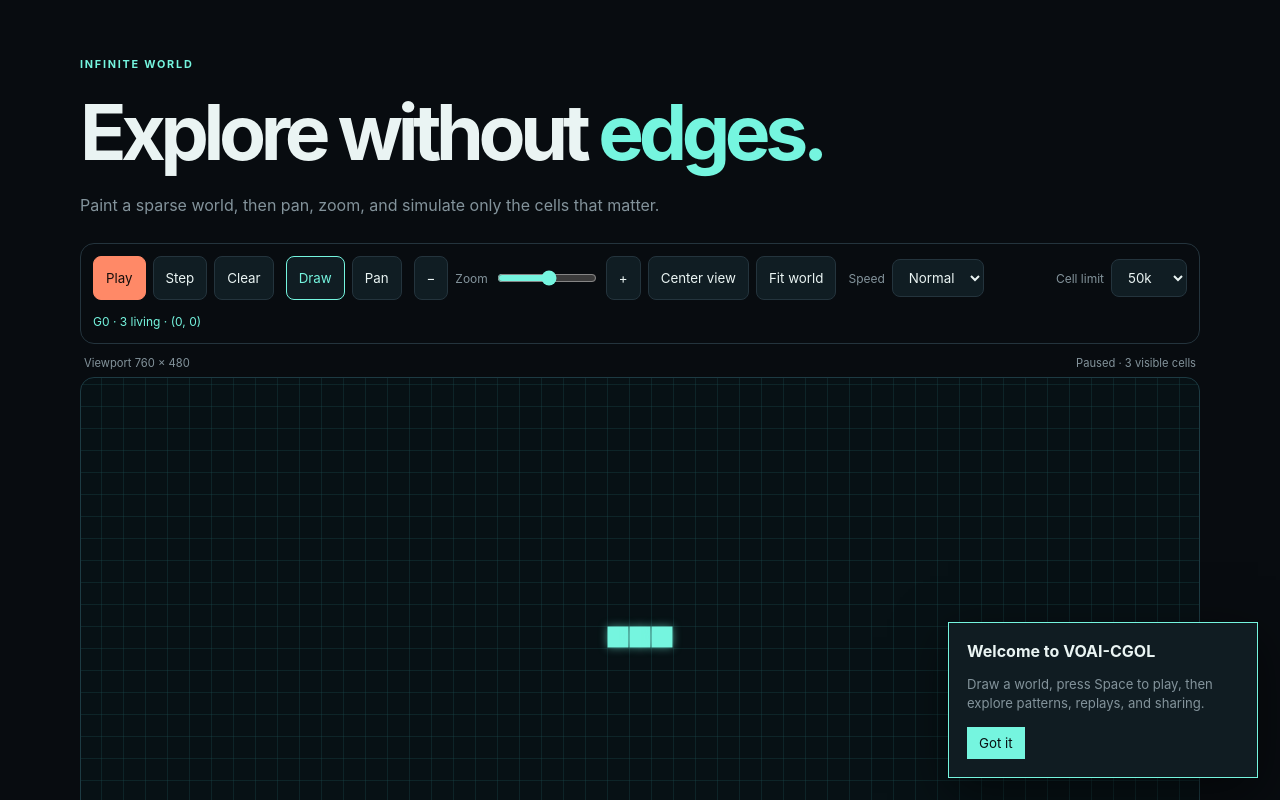
Test: a blinker pauses at its fifth occurrence of the initial state
Click the button "Play".
click(119, 278)  # box [93,256,146,300]
Wait 3000 ms
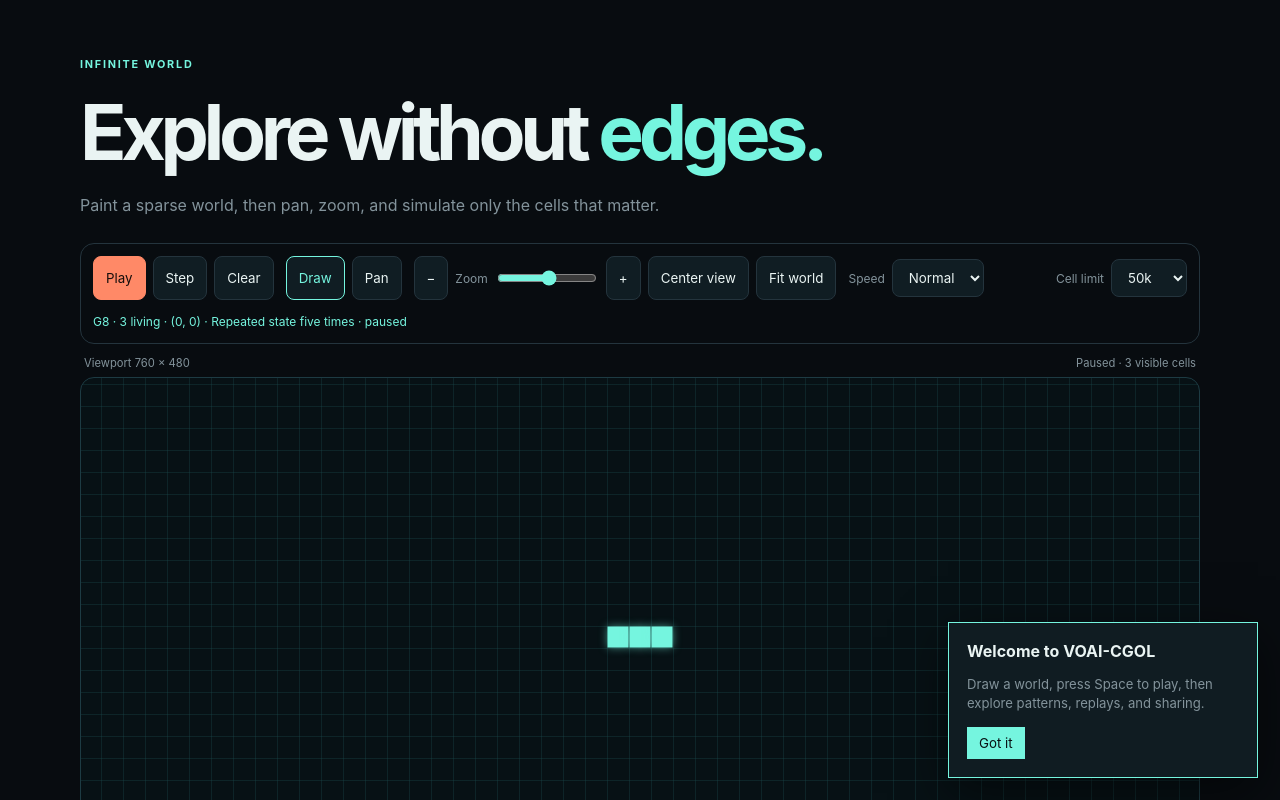
Expected: the text with class "worldReadout" shows "Repeated state five times · paused", [204,314,407,329]
Expected: the text with class "worldReadout" shows "G8 ·", [93,314,407,329]
